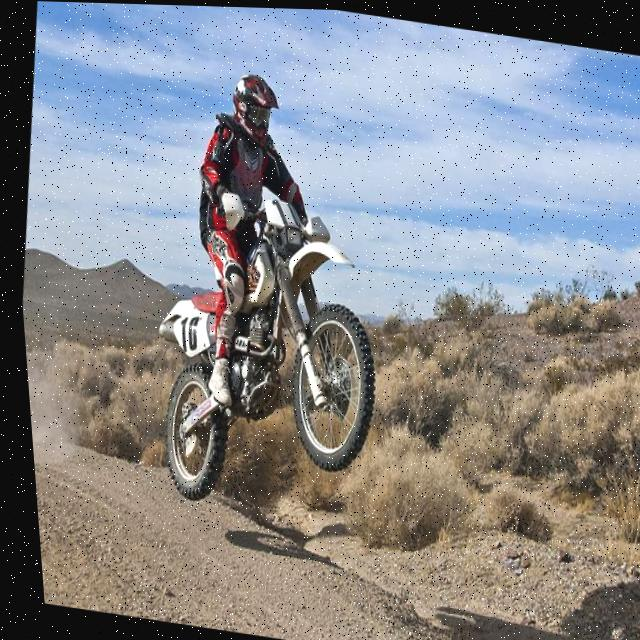motorcycle: (122, 182, 418, 531)
